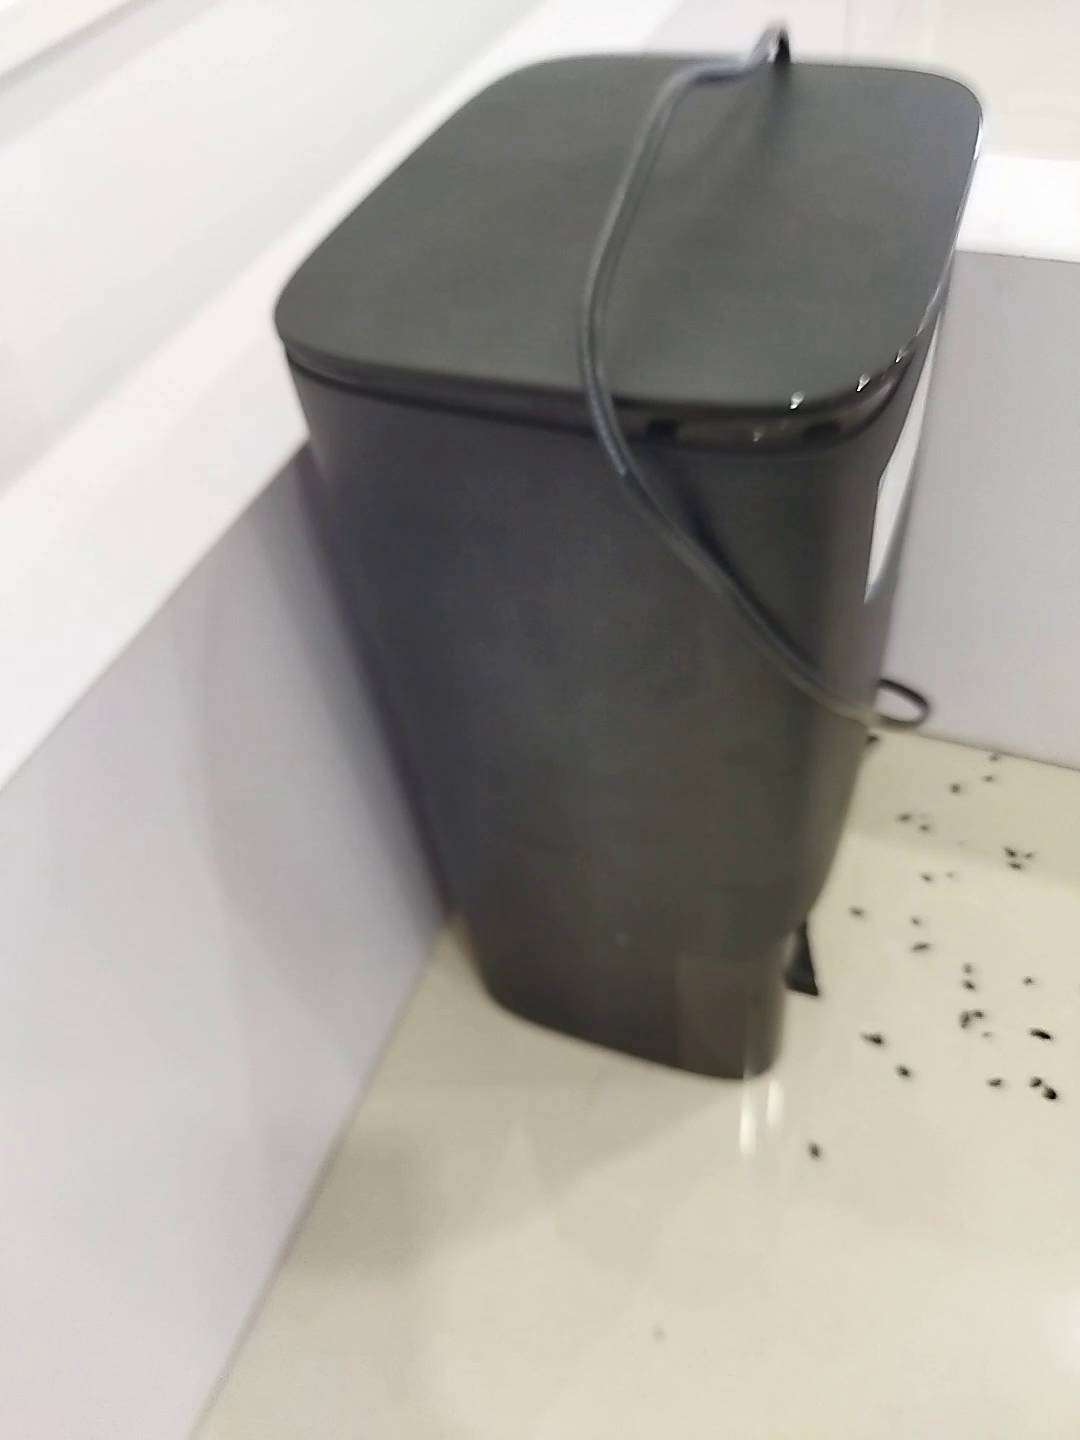dust collecting barrel: (272, 49, 986, 1083)
